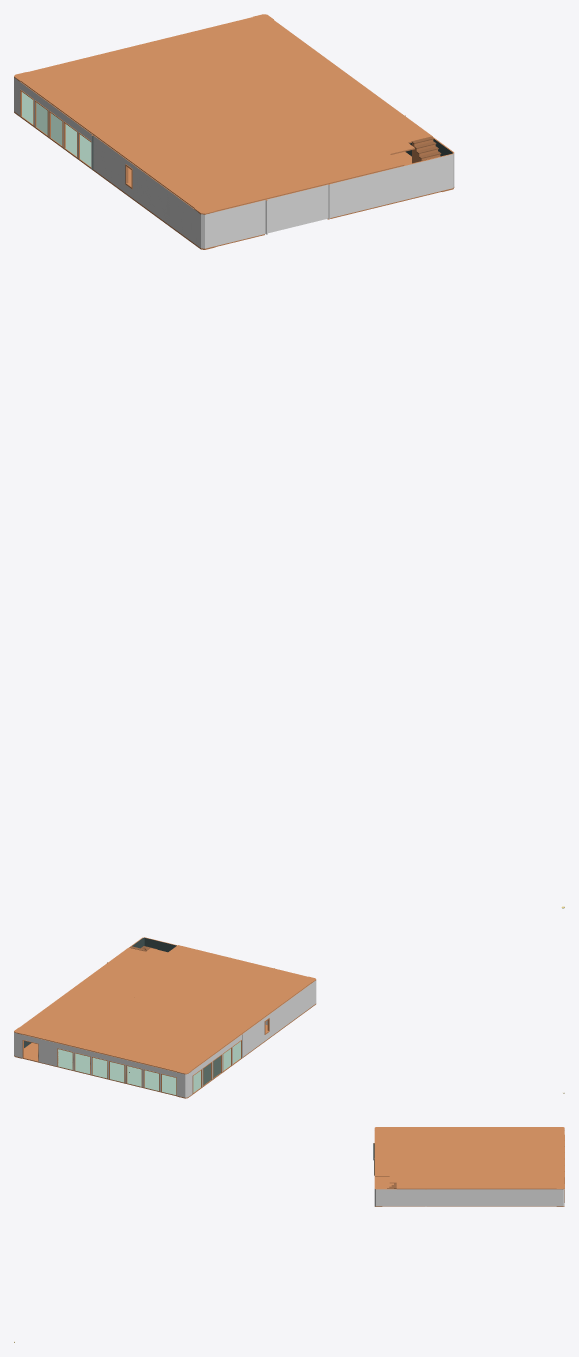
The model's file is top floor mesh.obj.
The picture shows the model from 3 angles, top to bottom: view 1: azimuth 30°, elevation 25°; view 2: azimuth 150°, elevation 25°; view 3: azimuth 270°, elevation 25°; orthographic projection. The views are drawn at different scales.
Parts seen in each view (by area): view 1: wall.022_wall; view 2: wall.022_wall; view 3: wall.022_wall.
Boxes of the visible parts, <box> form: wall.022_wall: <box>14,14,564,908</box>; wall.022_wall: <box>14,937,564,1098</box>; wall.022_wall: <box>14,1127,564,1342</box>.
Size of the model in its own units: 20.28 by 32.68 by 75.65.
